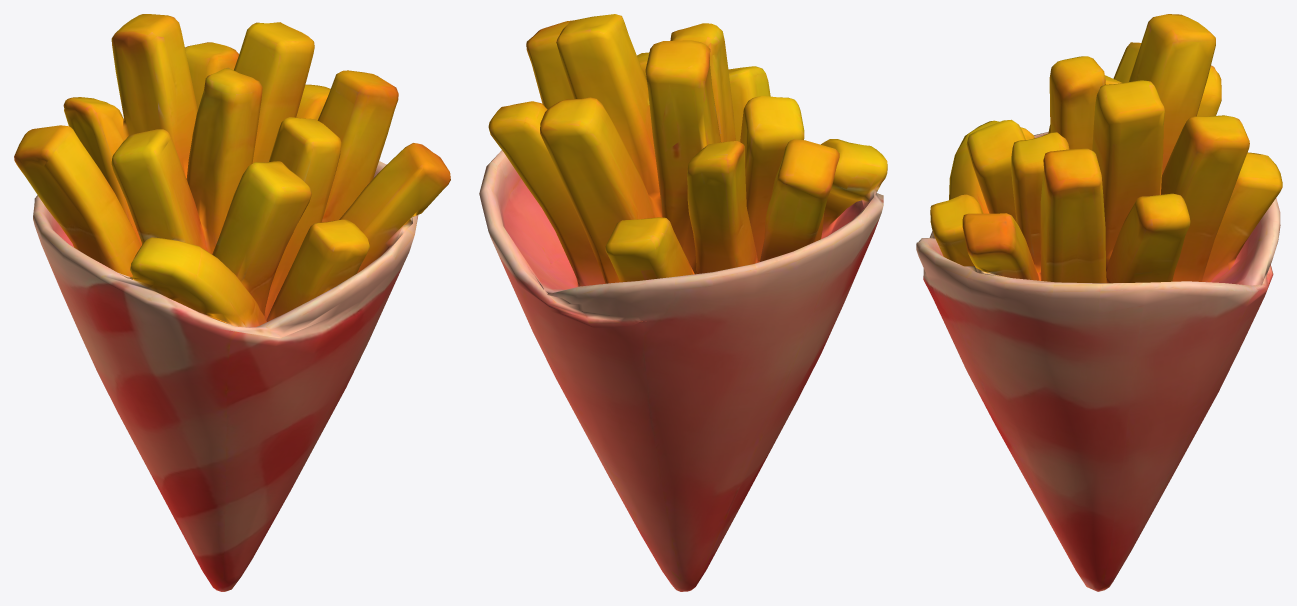
3 views of the same model, side by side, from view 1: azimuth 30°, elevation 25°; view 2: azimuth 150°, elevation 25°; view 3: azimuth 270°, elevation 25° (orthographic). The views are drawn at different scales.
Parts seen in each view (by area): view 1: fries; view 2: fries; view 3: fries.
Part boxes in pixels (left/top/right/bottom): fries: left=14, top=14, right=450, bottom=591; fries: left=479, top=14, right=887, bottom=591; fries: left=916, top=14, right=1282, bottom=591.
Size of the model in its own units: 0.1042 by 0.16 by 0.0961.
Materials: 1 (1 with a texture image).
